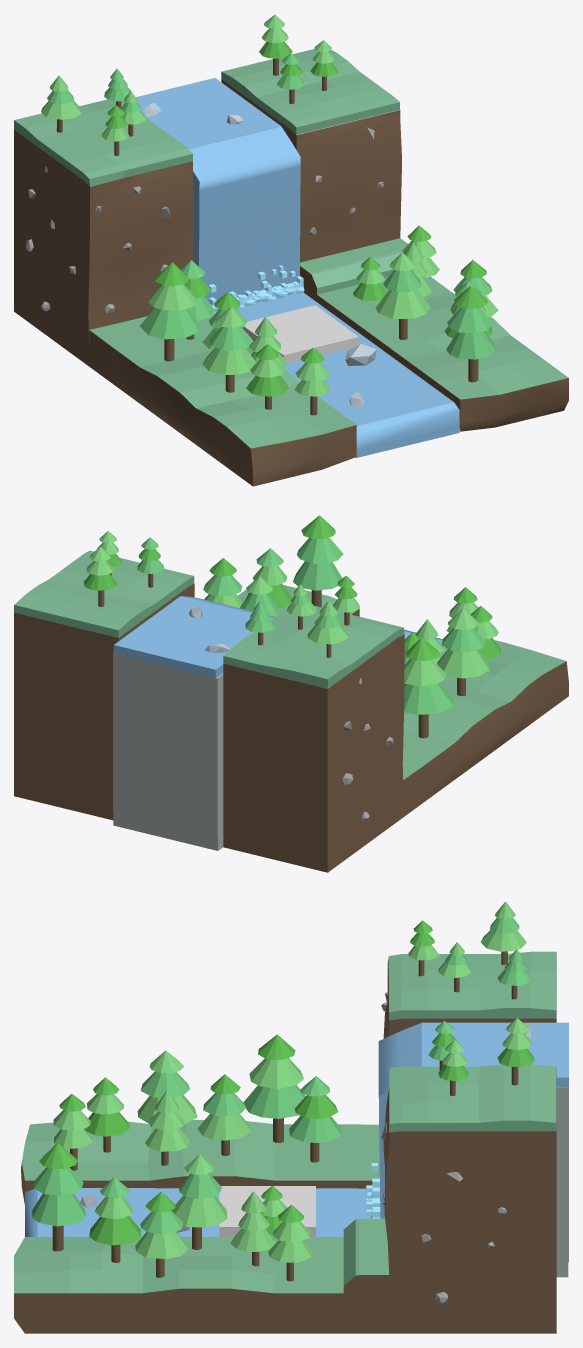
The picture shows the model from 3 angles, top to bottom: view 1: azimuth 30°, elevation 25°; view 2: azimuth 150°, elevation 25°; view 3: azimuth 270°, elevation 25°; orthographic projection. The views are drawn at different scales.
Parts seen in each view (by area): view 1: Cube_65, Cube.002_66, Cube, Cone_2, Cone.030_32, Cone.009_11, Cone.021_23, Cube.027_74, Cone.001_3, Cone.022_24, Cone.010_12, Cone.015_17 (+2 smaller); view 2: Cube_65, Cube.002_66, Cone_2, Cone.009_11, Cone.021_23, Cone.001_3, Cone.022_24, Cone.010_12, Cone.028_30, Cone.054_56, Cone.023_25, Cone.002_4 (+2 smaller); view 3: Cube_65, Cube.002_66, Cube, Cone_2, Cone.021_23, Cone.030_32, Cone.001_3, Cone.024_26, Cone.027_29, Cone.003_5, Cone.022_24, Cone.006_8 (+20 smaller).
Boxes of the visible parts, x1,y1,x2,y2 form: Cube_65: (14,49,568,486); Cube.002_66: (136,78,459,457); Cube: (242,305,358,363); Cone_2: (139,307,201,339); Cone.030_32: (375,289,430,318); Cone.009_11: (202,347,256,374); Cone.021_23: (446,331,495,359); Cube.027_74: (209,276,304,314); Cone.001_3: (148,284,197,310); Cone.022_24: (447,307,493,333); Cone.010_12: (209,326,253,350); Cone.015_17: (246,375,288,396); Cube_65: (14,550,568,872); Cube.002_66: (113,596,445,678); Cone_2: (404,683,452,714); Cone.009_11: (437,649,489,678); Cone.021_23: (293,561,342,590); Cone.001_3: (404,659,446,686); Cone.022_24: (297,537,343,563); Cone.010_12: (441,628,485,652); Cone.028_30: (203,575,242,596); Cone.054_56: (307,624,348,644); Cone.023_25: (301,515,335,539); Cone.002_4: (405,637,439,660); Cube_65: (14,951,568,1333); Cube.002_66: (25,1022,568,1236); Cube: (219,1186,315,1236); Cone_2: (243,1085,305,1118); Cone.021_23: (32,1193,85,1226); Cone.030_32: (171,1195,227,1227); Cone.001_3: (249,1058,303,1088); Cone.024_26: (89,1216,141,1245); Cone.027_29: (135,1231,188,1259); Cone.003_5: (289,1115,340,1142); Cone.022_24: (33,1167,83,1195); Cone.006_8: (197,1113,250,1140).
Bounding box in the file's own units: 8.56 × 7.39 × 11.47.
